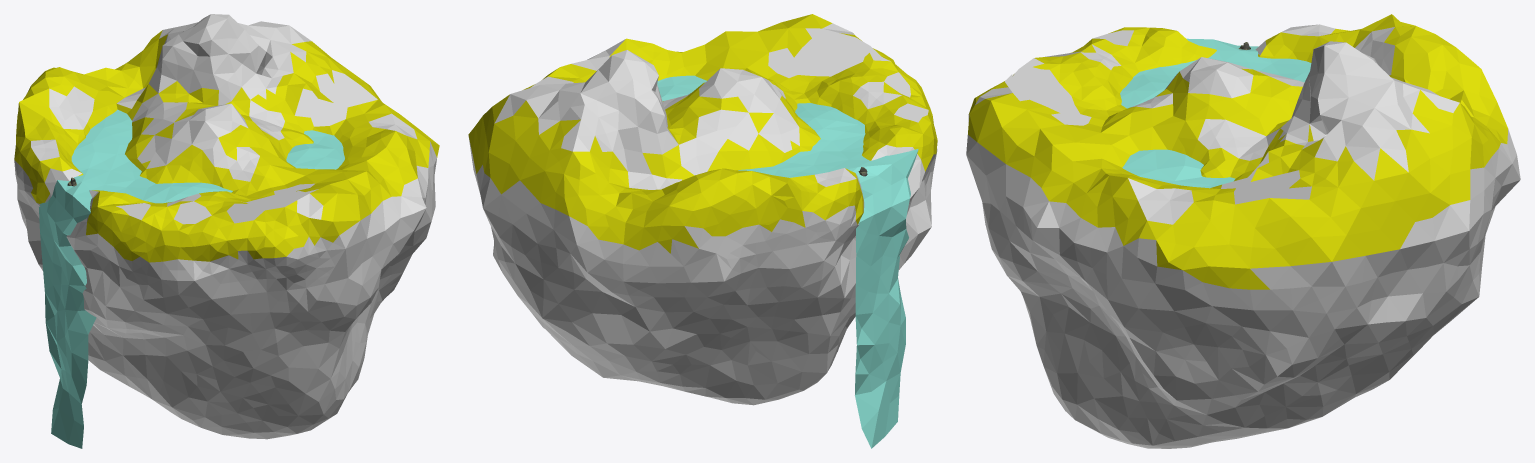
File: map.glb
3 renders of one model, left to right at view 1: azimuth 30°, elevation 25°; view 2: azimuth 150°, elevation 25°; view 3: azimuth 270°, elevation 25°, orthographic. The views are drawn at different scales.
Parts seen in each view (by area): view 1: Icosphere, Plane; view 2: Icosphere, Plane; view 3: Icosphere, Plane.
Part boxes in pixels (x1,y1,x2,y2): Icosphere: [14, 14, 439, 439]; Plane: [39, 109, 344, 448]; Icosphere: [468, 14, 937, 405]; Plane: [657, 75, 918, 448]; Icosphere: [966, 14, 1520, 448]; Plane: [1120, 38, 1311, 188].
Size of the model in its own units: 1.8 by 1.68 by 2.03.
Materials: 3 (1 with a texture image).
